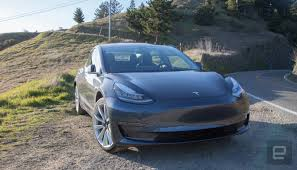car: (62, 37, 262, 153)
